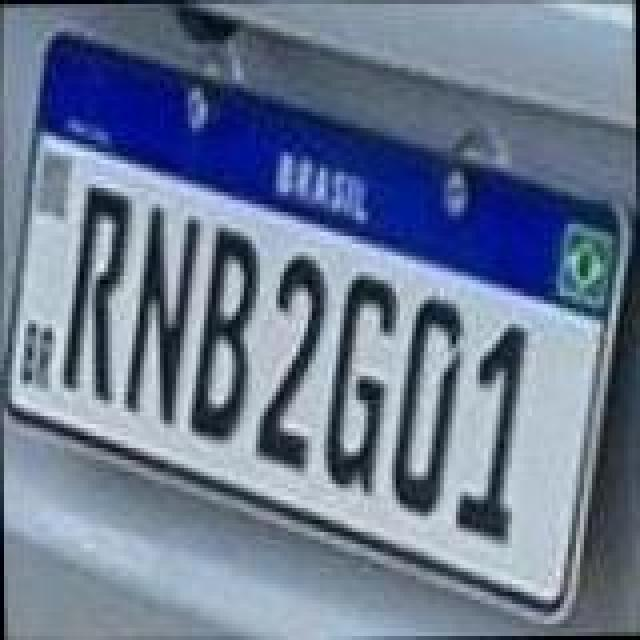1: (448, 322, 532, 546)
2: (246, 250, 330, 470)
B: (186, 220, 262, 440)
D: (384, 296, 468, 516)
G: (320, 272, 404, 496)
N: (120, 202, 208, 426)
R: (54, 180, 138, 404)
